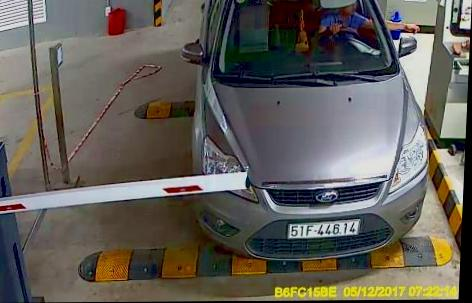License_Plate: (282, 218, 367, 239)
